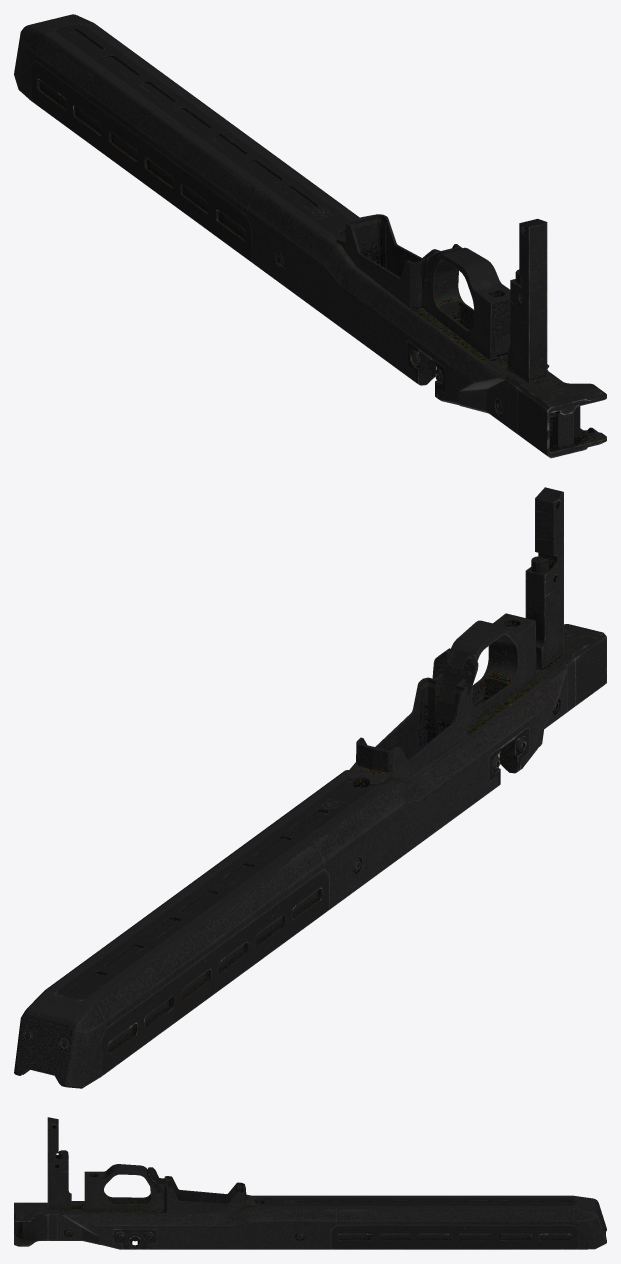
3 views of the same model, one above another, from view 1: azimuth 30°, elevation 25°; view 2: azimuth 150°, elevation 25°; view 3: azimuth 270°, elevation 25° (orthographic). The views are drawn at different scales.
Visible parts, largest first — view 1: TW_5cdeac22d7f00c000f26168f_PZ_Import; view 2: TW_5cdeac22d7f00c000f26168f_PZ_Import; view 3: TW_5cdeac22d7f00c000f26168f_PZ_Import.
Boxes of the visible parts, x1,y1,x2,y2 form: TW_5cdeac22d7f00c000f26168f_PZ_Import: (14,14,606,458); TW_5cdeac22d7f00c000f26168f_PZ_Import: (14,487,606,1088); TW_5cdeac22d7f00c000f26168f_PZ_Import: (14,1117,606,1249).
Bounding box in the file's own units: 0.0284 × 0.3413 × 0.0771.
Materials: 1 (1 with a texture image).
